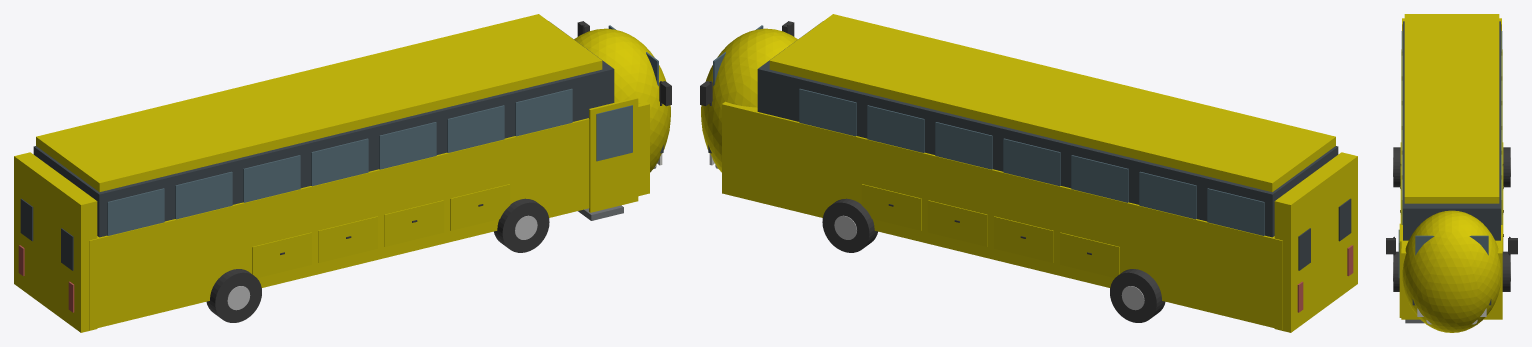
File: bus.glb
The picture shows the model from 3 angles, left to right: view 1: azimuth 30°, elevation 25°; view 2: azimuth 150°, elevation 25°; view 3: azimuth 270°, elevation 25°; orthographic projection. The views are drawn at different scales.
Parts seen in each view (by area): view 1: lower_body, roof, upper_window_band, rear_cap, front_nose, front_door, side_window_1_2, side_window_1_0, side_window_1_3, side_window_1_6, side_window_1_4, side_window_1_5 (+9 smaller); view 2: lower_body, roof, upper_window_band, rear_cap, front_nose, side_window_-1_2, side_window_-1_0, side_window_-1_3, side_window_-1_6, side_window_-1_4, side_window_-1_5, side_window_-1_1 (+7 smaller); view 3: roof, front_nose, upper_window_band, lower_body, front_wheel_-1, rear_wheel_-1, rear_wheel_1, front_door, front_wheel_1, front_windshield_-1, front_windshield_1, mirror_-1 (+1 smaller).
Boxes of the visible parts, x1,y1,x2,y2 form: lower_body: (89,101,649,329); roof: (36,14,602,192); upper_window_band: (33,21,614,237); rear_cap: (14,152,97,332); front_nose: (574,28,670,172); front_door: (589,97,638,212); side_window_1_2: (379,122,436,169); side_window_1_0: (515,88,572,136); side_window_1_3: (311,138,368,186); side_window_1_6: (107,188,164,235); side_window_1_4: (243,155,300,202); side_window_1_5: (175,171,232,219); lower_body: (722,101,1282,329); roof: (769,14,1335,192); upper_window_band: (757,21,1338,237); rear_cap: (1274,152,1357,332); front_nose: (701,28,797,172); side_window_-1_2: (935,122,992,169); side_window_-1_0: (799,88,856,136); side_window_-1_3: (1003,138,1060,186); side_window_-1_6: (1207,188,1264,235); side_window_-1_4: (1071,155,1128,202); side_window_-1_5: (1139,171,1196,219); side_window_-1_1: (867,105,924,152); roof: (1404,14,1499,203); front_nose: (1402,210,1501,332); upper_window_band: (1403,21,1500,240); lower_body: (1401,49,1502,319); front_wheel_-1: (1502,251,1510,291); rear_wheel_-1: (1503,147,1510,187); rear_wheel_1: (1393,147,1400,187); front_door: (1399,223,1401,317); front_wheel_1: (1393,251,1399,291); front_windshield_-1: (1469,235,1488,255); front_windshield_1: (1415,235,1434,255); mirror_-1: (1508,238,1517,254).
Bounding box in the file's own units: 12.86 × 3.31 × 3.2.
